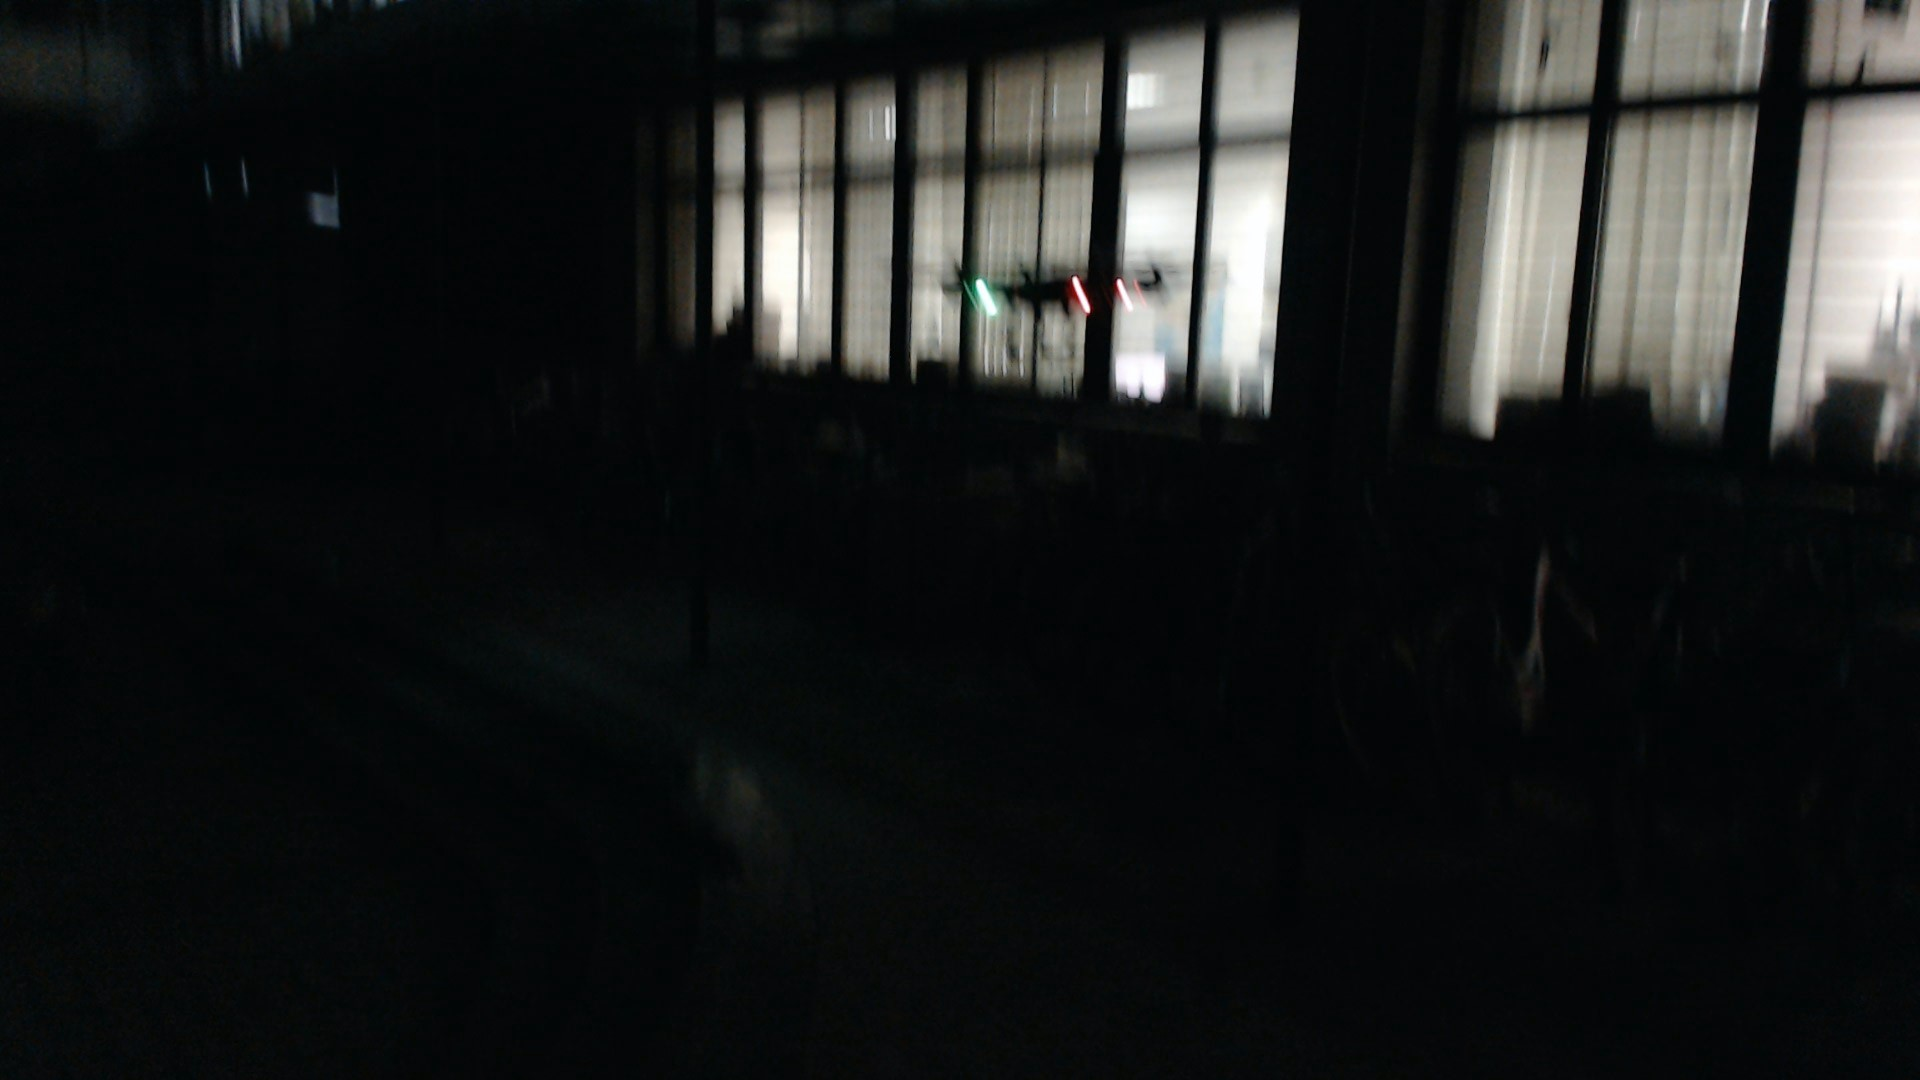drone: (930, 251, 1174, 342)
